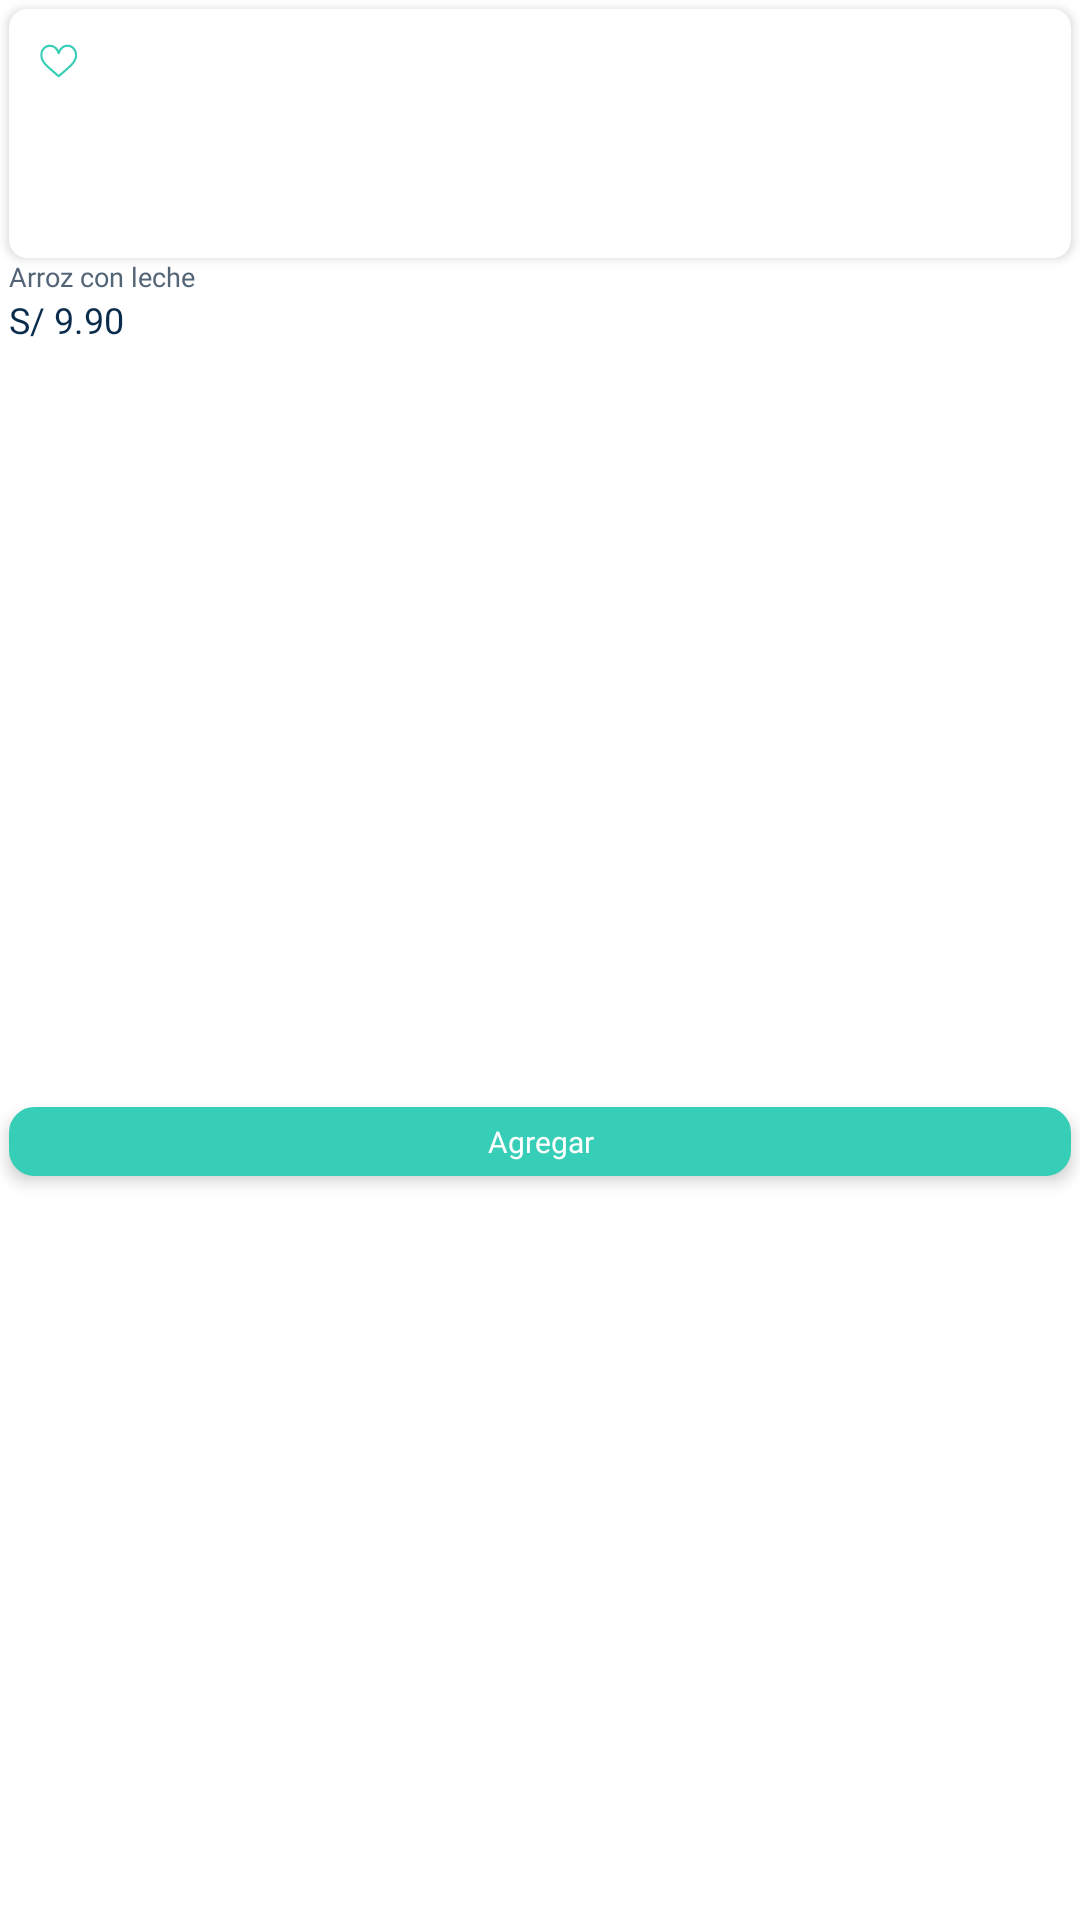

Locate icon controls on the screen. Image size 1080×1920, boxes as (x1, y1, x2, y2).
like: (40, 44, 77, 78)
